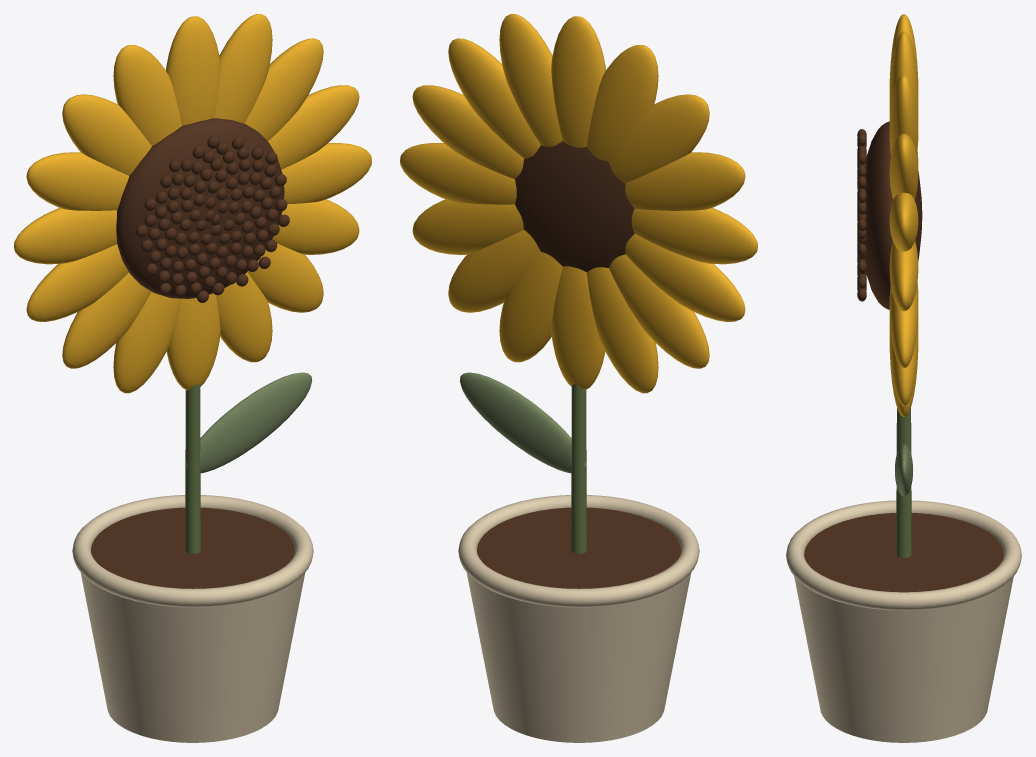
File: sunflower-v1.glb
3 views of the same model, side by side, from view 1: azimuth 30°, elevation 25°; view 2: azimuth 150°, elevation 25°; view 3: azimuth 270°, elevation 25° (orthographic). The views are drawn at different scales.
Size of the model in its own units: 1.54 by 2.84 by 0.9.
